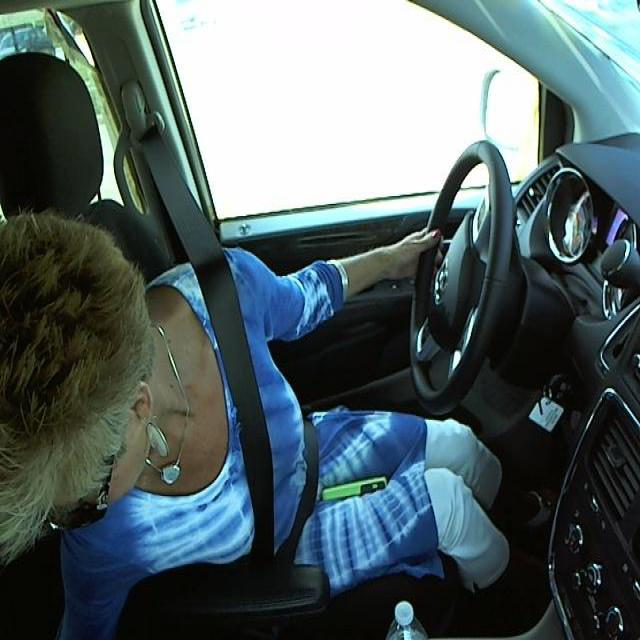seatbelt: (197, 284, 285, 528)
